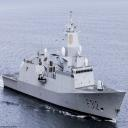Fragata: (2, 9, 127, 125)
